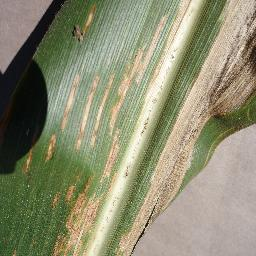Gray_Leaf_Spot: (102, 64, 132, 196), (227, 0, 255, 130), (162, 118, 199, 199), (49, 185, 88, 256), (124, 16, 166, 81), (70, 74, 106, 147), (210, 23, 232, 118), (54, 72, 85, 128), (141, 171, 167, 237), (188, 65, 212, 130), (72, 0, 104, 42), (171, 0, 196, 48), (118, 219, 147, 256), (80, 195, 109, 226), (19, 146, 49, 172), (42, 134, 61, 163), (74, 173, 90, 197)
